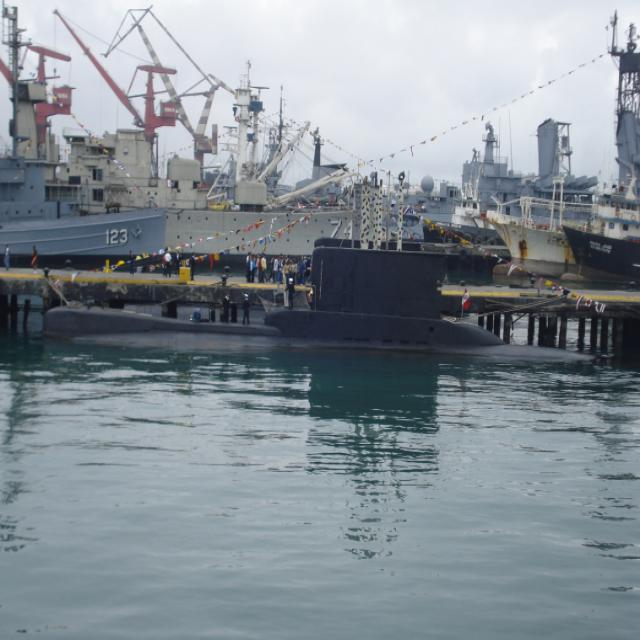submarine: (45, 247, 599, 367)
